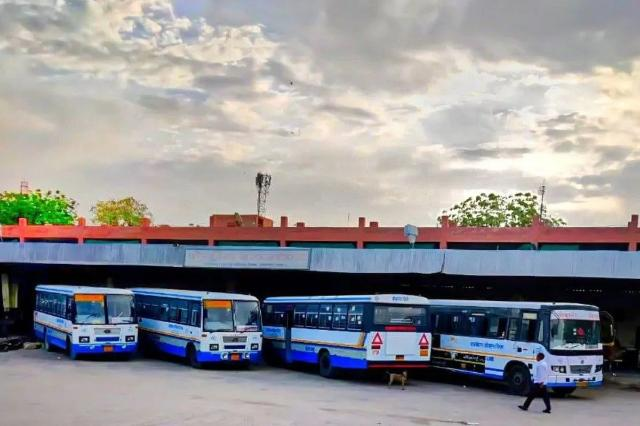bus: (427, 300, 609, 395), (260, 293, 433, 381), (132, 288, 266, 369), (33, 284, 139, 360)
